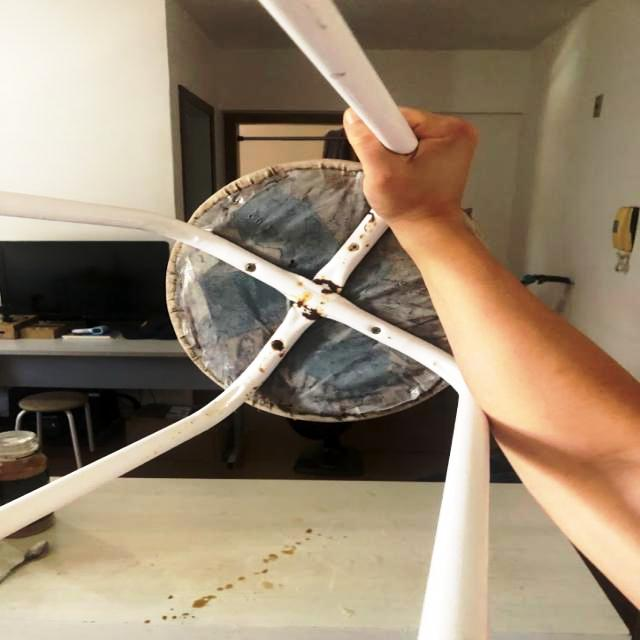Corrosion: (293, 299, 326, 322), (312, 278, 344, 295), (269, 338, 286, 351)
